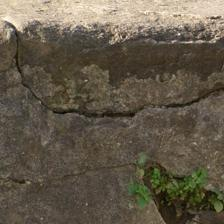Crack: (4, 13, 218, 113)
